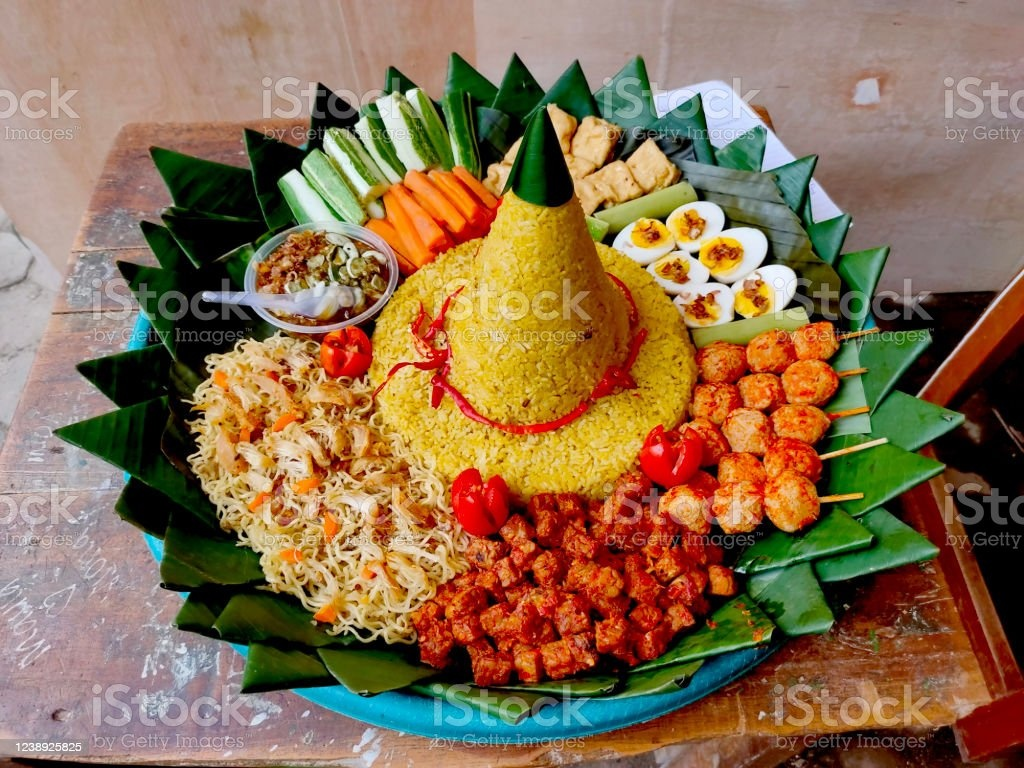tumpeng: (374, 104, 643, 447)
